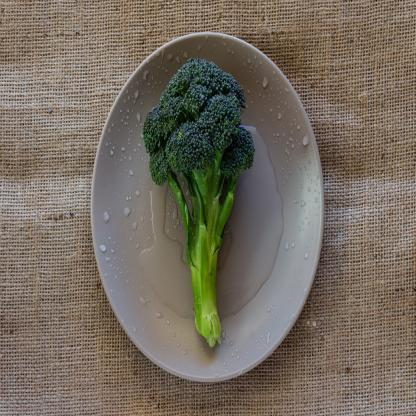broccoli: (144, 57, 256, 348)
